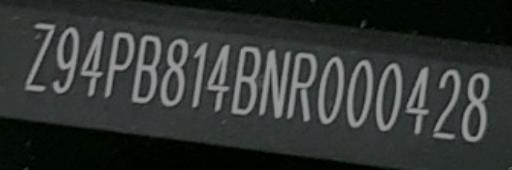letter: (21, 19, 57, 94), (257, 48, 293, 122), (284, 48, 318, 124), (430, 64, 462, 143), (458, 66, 490, 145), (130, 31, 164, 103), (374, 57, 406, 133), (230, 42, 262, 117), (104, 30, 136, 102), (158, 36, 190, 108), (402, 64, 432, 139), (315, 54, 345, 126), (346, 54, 374, 130), (52, 21, 80, 94), (78, 27, 106, 99), (206, 40, 230, 112), (188, 41, 210, 110)
